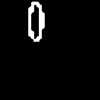chain: (29, 2, 43, 40)
